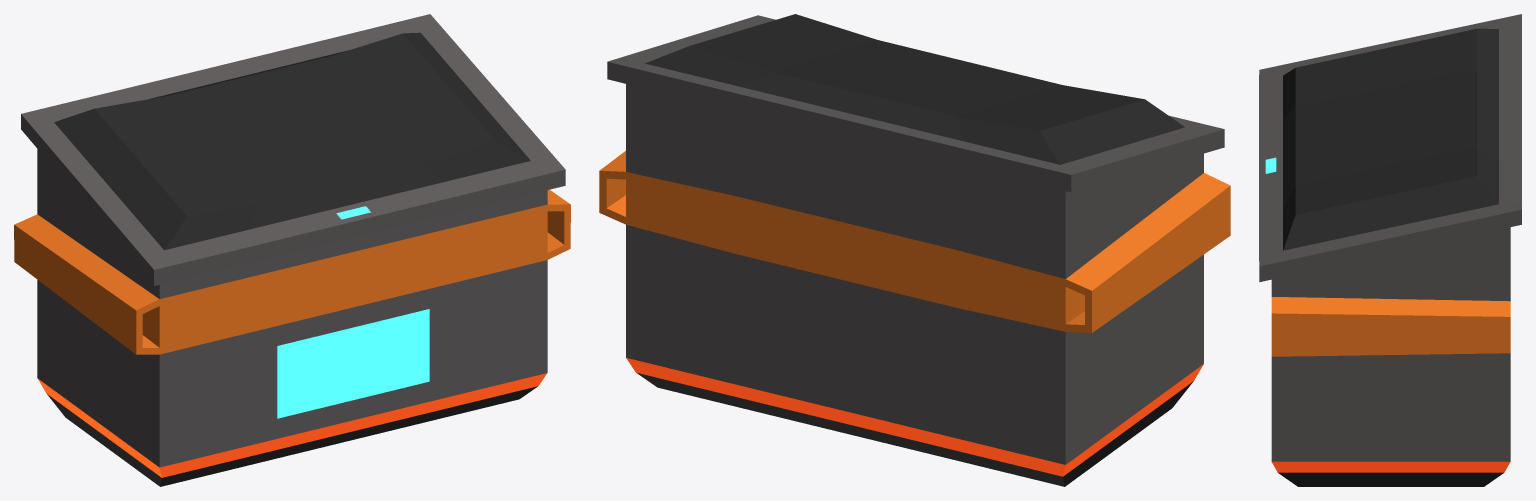
Rendered from scifi_scifi-dumpster.fbx.
The picture shows the model from 3 angles, left to right: view 1: azimuth 30°, elevation 25°; view 2: azimuth 150°, elevation 25°; view 3: azimuth 270°, elevation 25°; orthographic projection. The views are drawn at different scales.
Visible parts, largest first — view 1: scifi_scifi_dumpster; view 2: scifi_scifi_dumpster; view 3: scifi_scifi_dumpster.
Part boxes in pixels (x1,y1,x2,y2): scifi_scifi_dumpster: [14, 14, 570, 486]; scifi_scifi_dumpster: [599, 14, 1230, 486]; scifi_scifi_dumpster: [1259, 14, 1521, 486].
Bounding box in the file's own units: 200 × 134 × 107.
